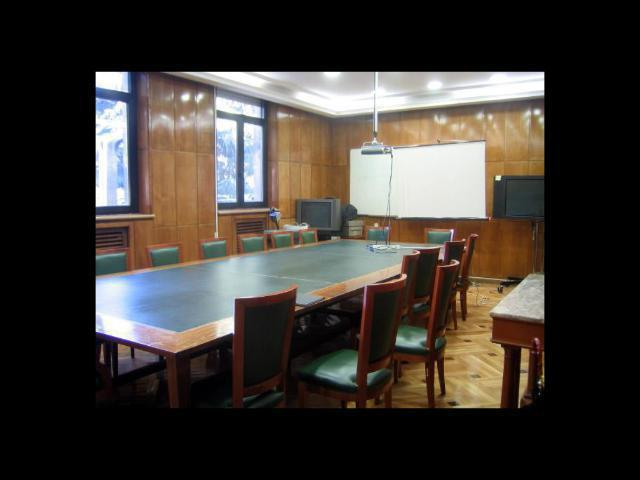Electrodomestico: (492, 171, 542, 284), (291, 195, 345, 240)
